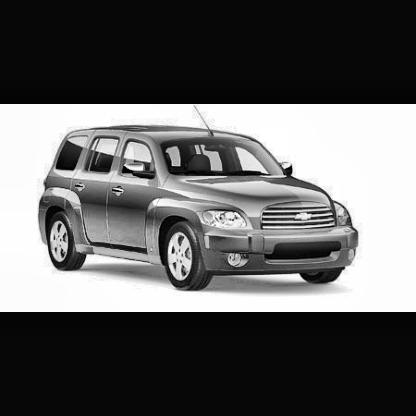Chevrolet HHR SS 2010: (38, 130, 362, 294)
